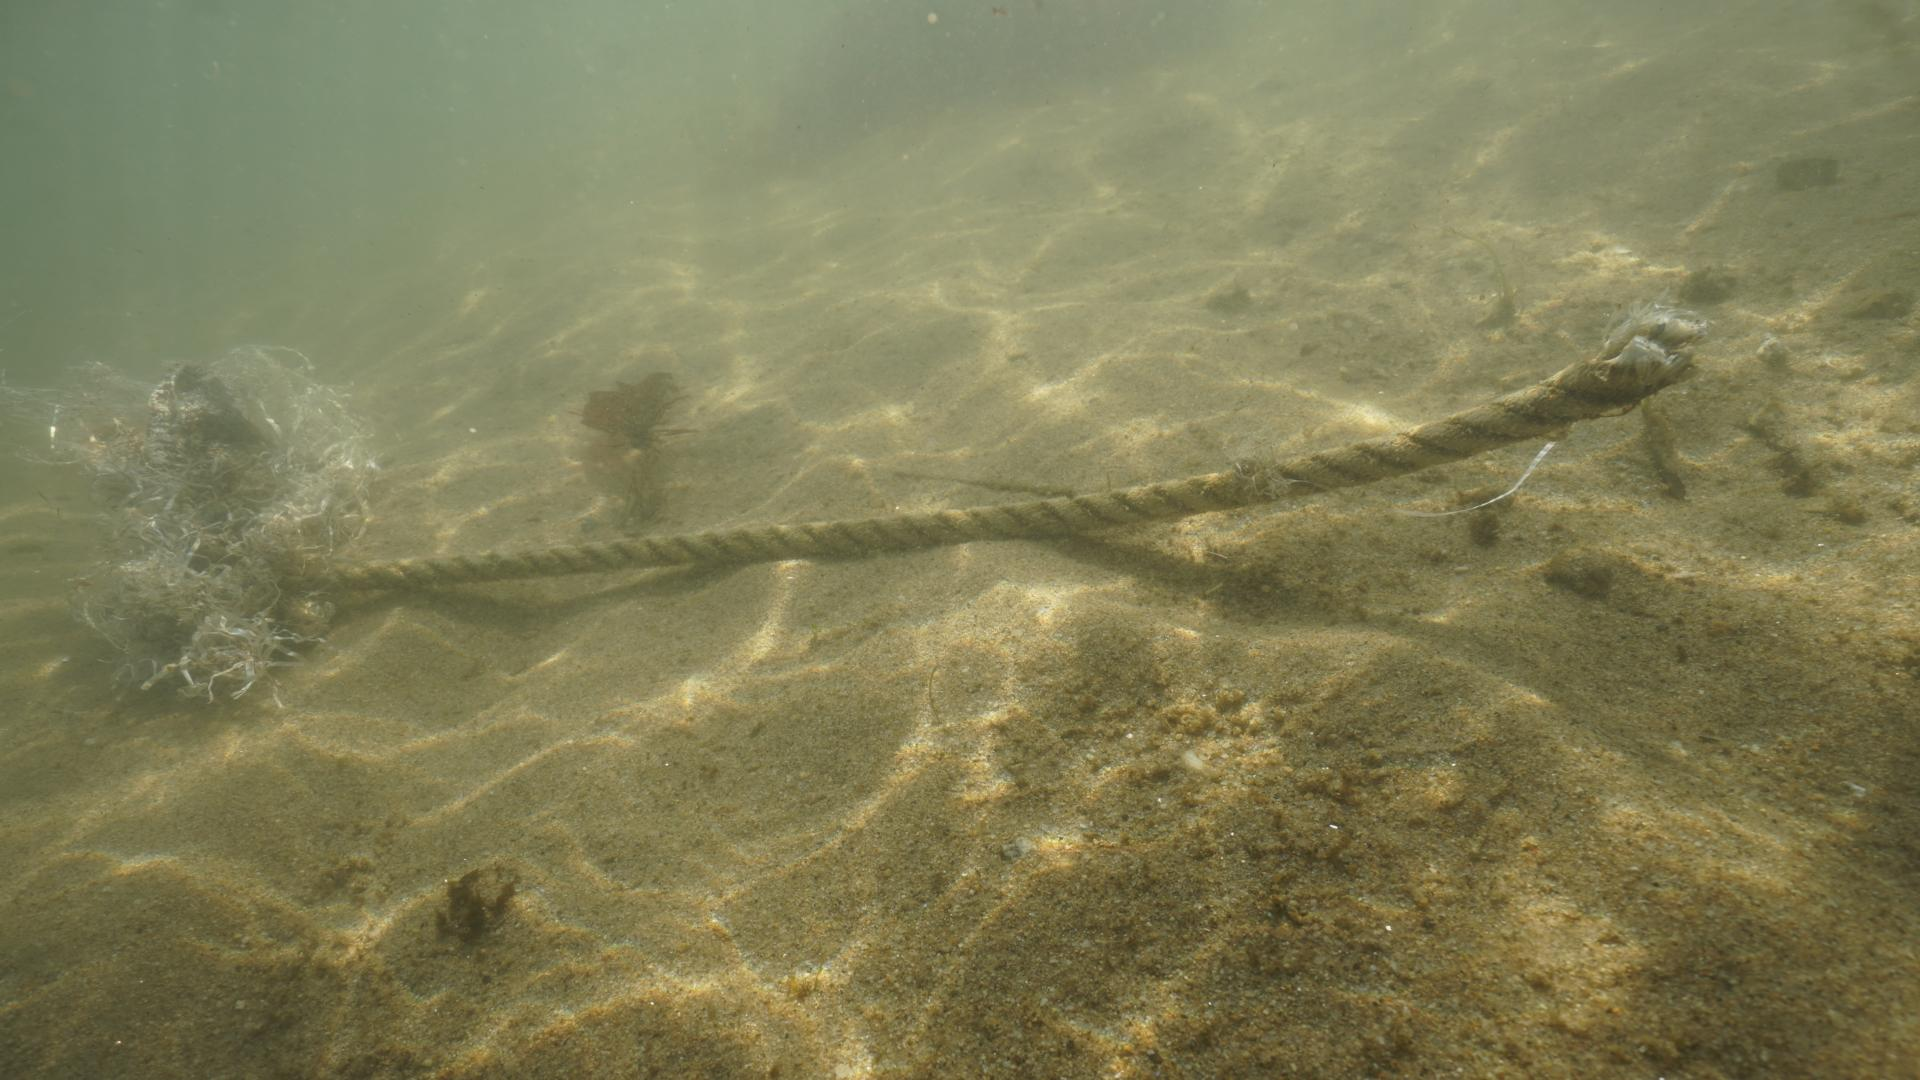rope: (291, 343, 1615, 593)
